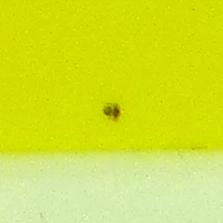Araneae: (100, 100, 123, 123)
